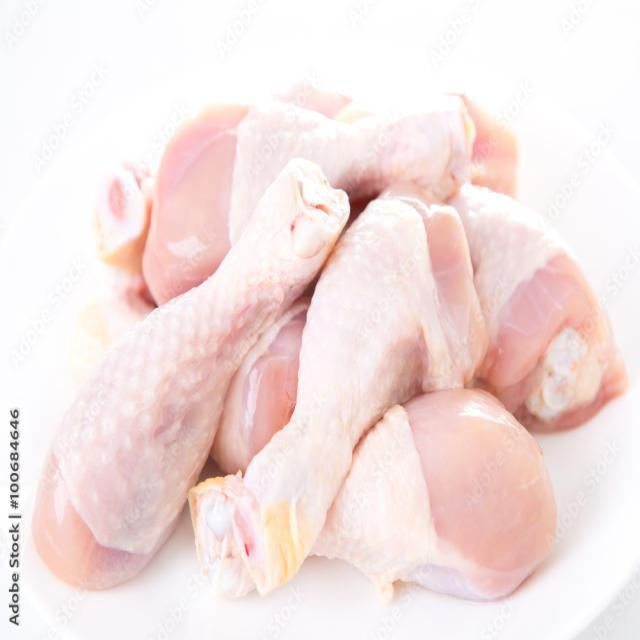leg: (59, 165, 334, 610), (213, 186, 472, 558), (154, 98, 468, 245), (326, 396, 552, 594), (464, 184, 612, 428)
